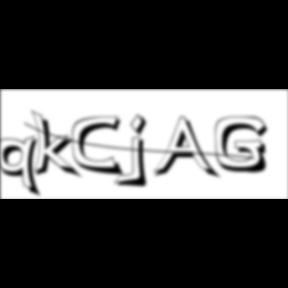A: (154, 116, 222, 182)
C: (72, 115, 128, 178)
G: (216, 116, 274, 176)
j: (128, 113, 154, 191)
k: (32, 108, 84, 181)
q: (0, 135, 46, 200)
